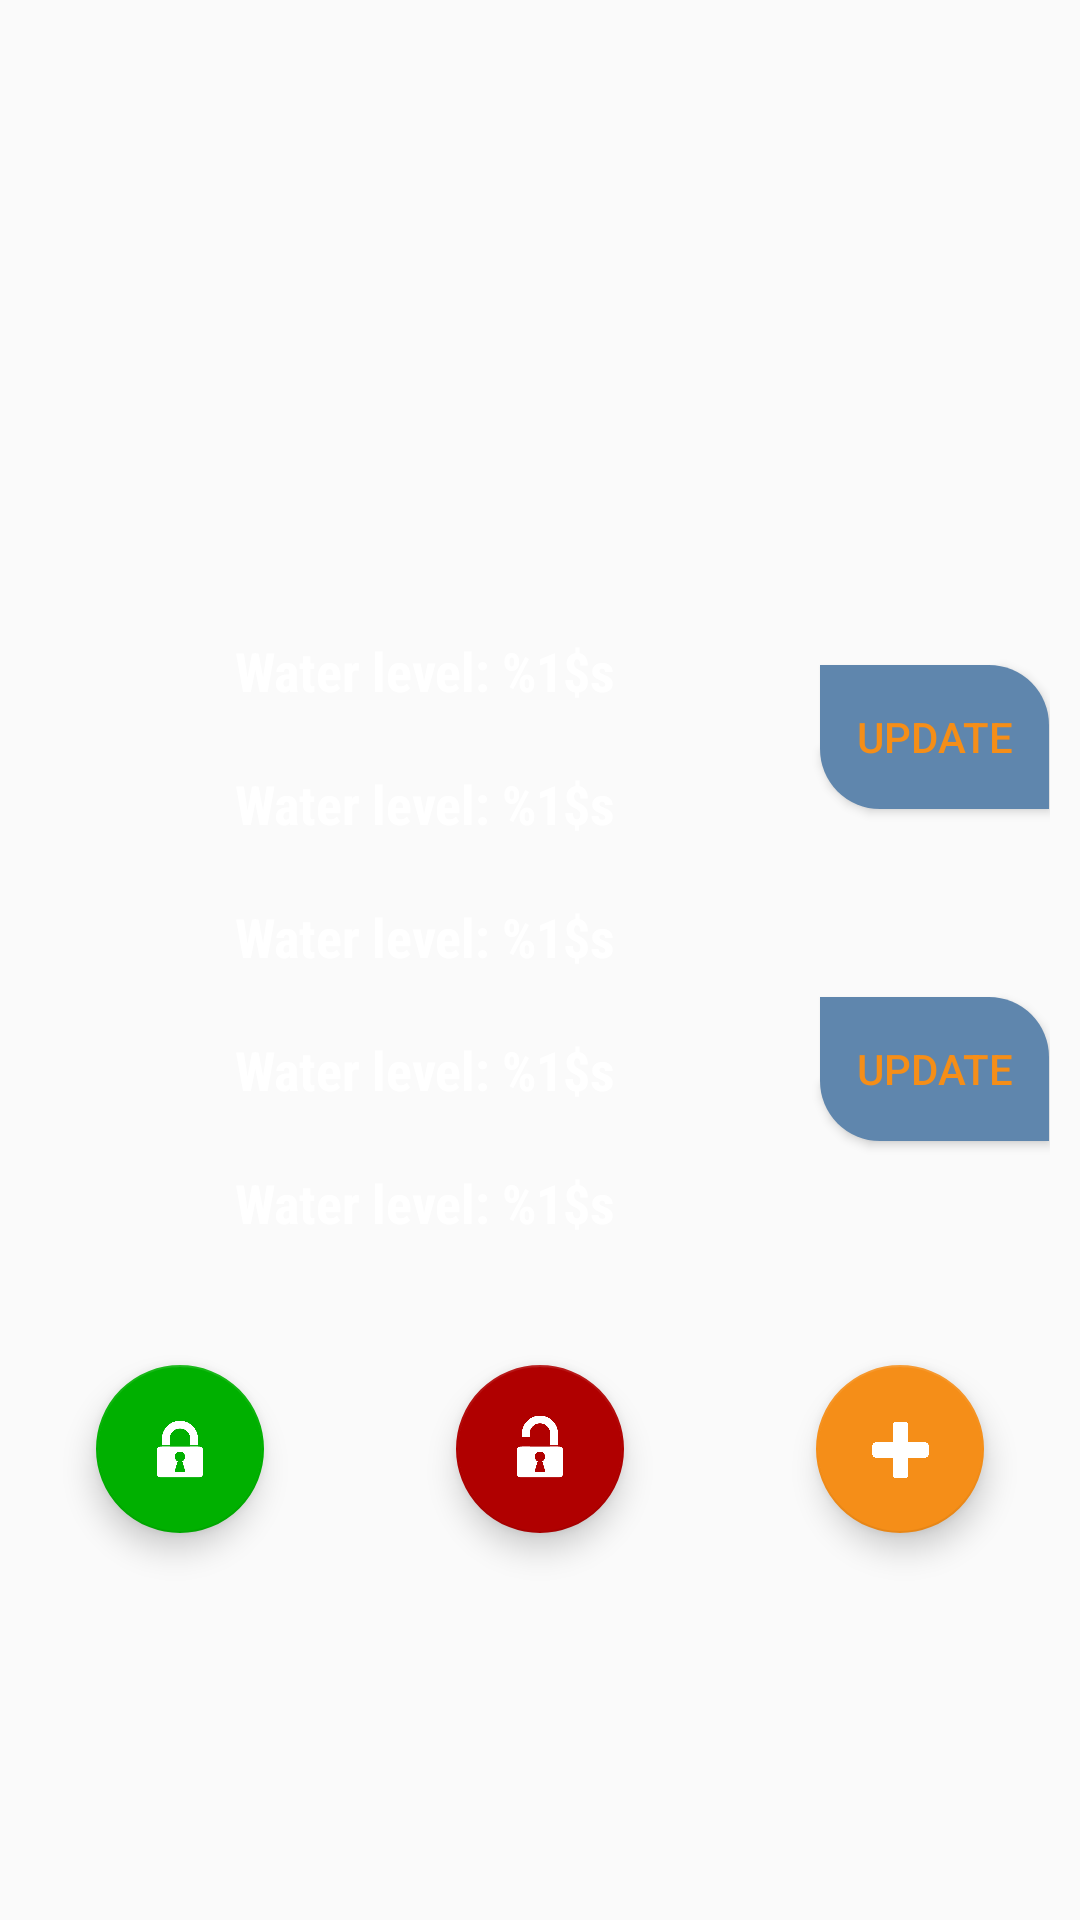

Screen size 1080*1920. Icon name, then its box in pixels as (x1,y1,x2,y2):
harmatek armed: (96,1365,264,1533)
harmatek disarmed: (456,1365,624,1533)
harmatek plus: (816,1365,984,1533)
